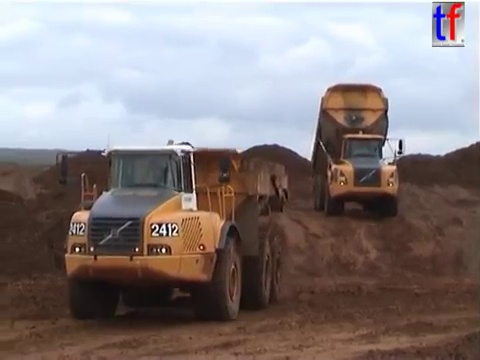truck: (53, 141, 292, 324), (308, 81, 406, 220)
